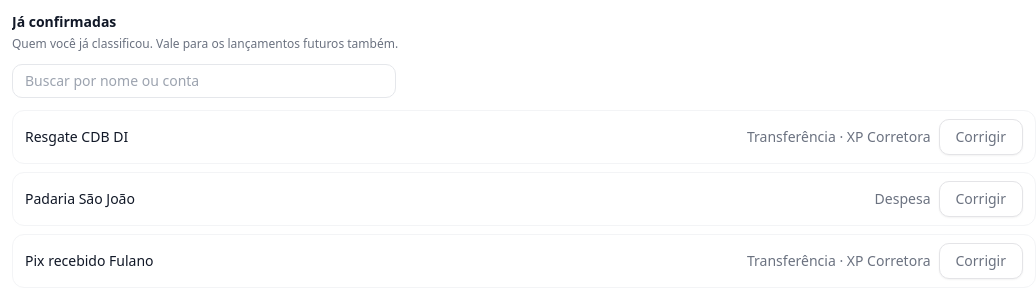
Test: RegrasConfirmadas — busca › filtra pela conta de destino
Step 1. Type "xp" into the search field named "Buscar regra" → (204, 81), box [12, 64, 396, 98]
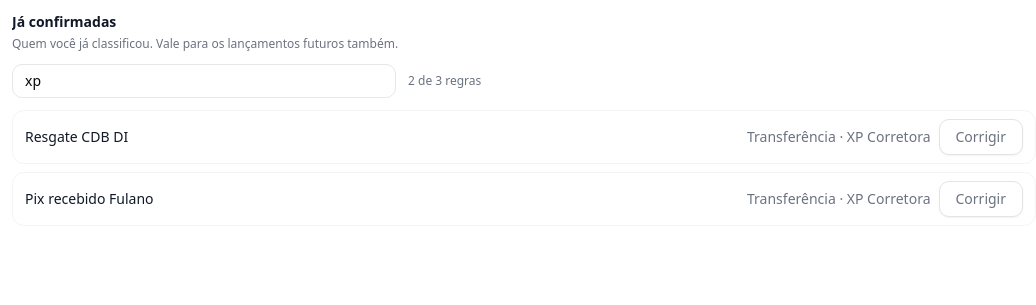
Check: the text "Resgate CDB DI" is shown, box [25, 127, 128, 147]
Check: the text "Padaria São João" is gone
